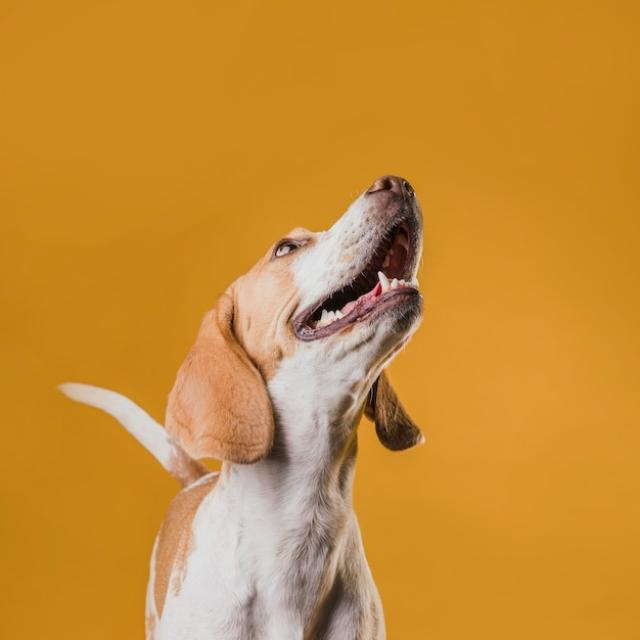Dog: (60, 174, 424, 640)
